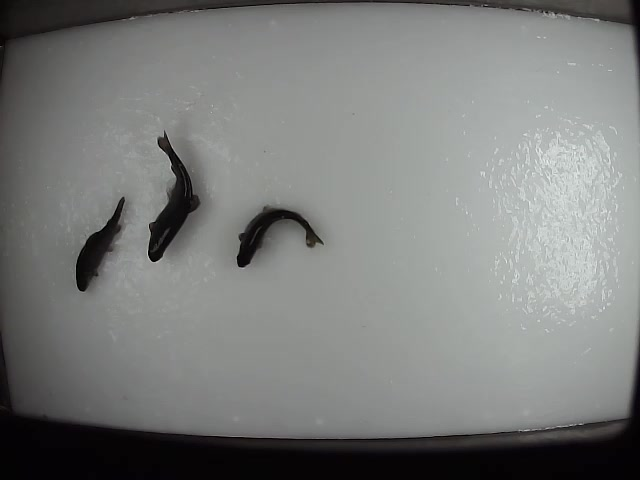fish: (145, 128, 205, 264), (236, 203, 329, 270), (73, 190, 128, 294)
